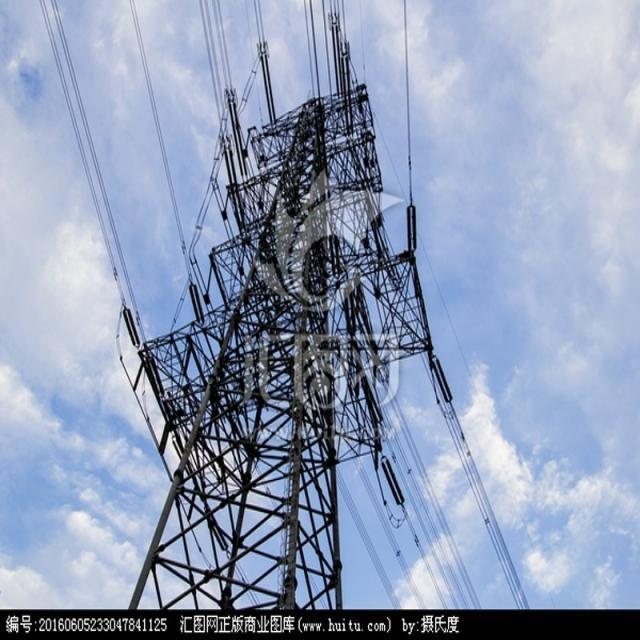non-critical vegetation: (144, 94, 425, 610)
